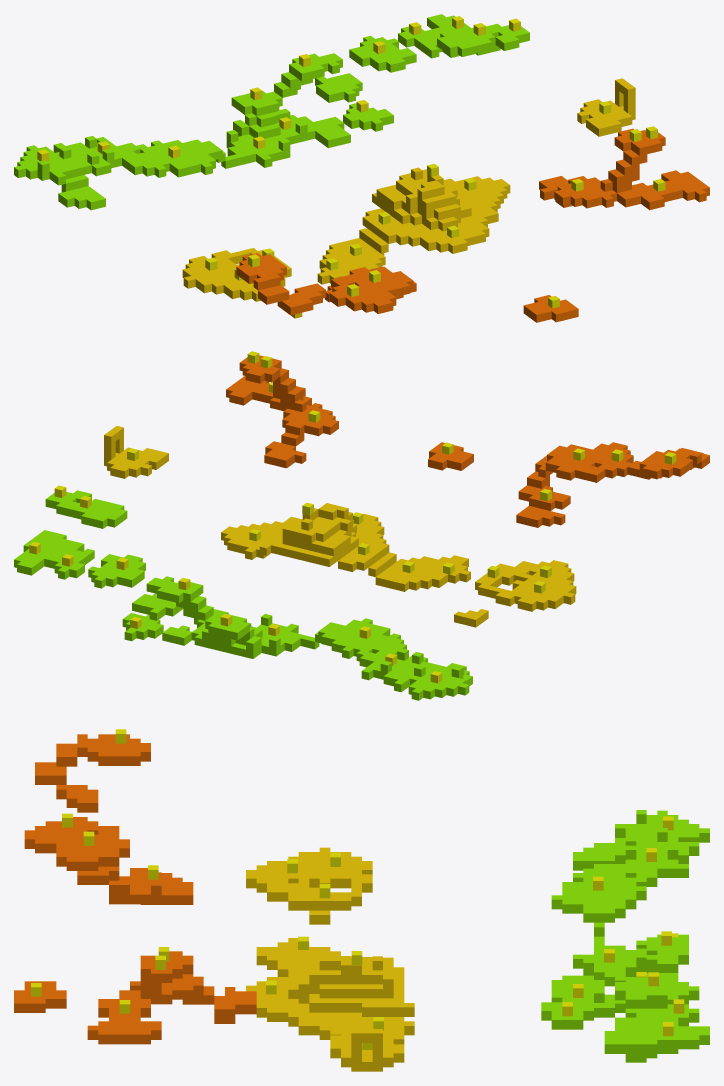
Rendered from 11.3 - nimLv1.fbx.
3 renders of one model, top to bottom at view 1: azimuth 30°, elevation 25°; view 2: azimuth 150°, elevation 25°; view 3: azimuth 270°, elevation 25°, orthographic. The views are drawn at different scales.
Parts seen in each view (by area): view 1: PL3Plat6, PL2Plat1, PL1Plat0, PL1Plat2, PL1Plat3, PL2Plat3, PL3Plat0, PL2Plat0, PL3Plat2, PL3Plat1, PL3Plat4, PL1Plat1 (+1 smaller); view 2: PL3Plat6, PL2Plat1, PL1Plat0, PL1Plat2, PL2Plat3, PL3Plat1, PL2Plat0, PL3Plat0, PL1Plat3, PL3Plat2, PL1Plat1, PL3Plat4 (+1 smaller); view 3: PL3Plat6, PL2Plat1, PL1Plat0, PL1Plat2, PL2Plat3, PL1Plat3, PL3Plat1, PL2Plat0, PL3Plat0, PL3Plat2, PL1Plat1.
Part boxes in pixels (box(x1,y1,x2,y2)): PL3Plat6: box(14, 53, 350, 210); PL2Plat1: box(317, 167, 510, 284); PL1Plat0: box(539, 128, 709, 210); PL1Plat2: box(324, 266, 416, 313); PL1Plat3: box(236, 253, 325, 315); PL2Plat3: box(182, 248, 291, 301); PL3Plat0: box(437, 23, 529, 56); PL2Plat0: box(577, 78, 635, 136); PL3Plat2: box(349, 35, 416, 72); PL3Plat1: box(398, 14, 500, 58); PL3Plat4: box(315, 73, 362, 102); PL1Plat1: box(523, 295, 578, 322); PL3Plat6: box(146, 576, 472, 700); PL2Plat1: box(221, 503, 470, 591); PL1Plat0: box(226, 355, 338, 468); PL1Plat2: box(516, 442, 633, 527); PL2Plat3: box(475, 560, 576, 611); PL3Plat1: box(14, 530, 94, 579); PL2Plat0: box(104, 426, 168, 478); PL3Plat0: box(45, 490, 127, 528); PL1Plat3: box(627, 448, 709, 479); PL3Plat2: box(88, 554, 145, 588); PL1Plat1: box(428, 442, 473, 470); PL3Plat4: box(132, 593, 183, 620); PL3Plat6: box(551, 810, 709, 1017); PL2Plat1: box(246, 938, 414, 1044); PL1Plat0: box(87, 951, 256, 1044); PL1Plat2: box(24, 817, 193, 904); PL2Plat3: box(246, 847, 372, 924); PL1Plat3: box(35, 734, 150, 812); PL3Plat1: box(604, 1004, 709, 1053); PL2Plat0: box(330, 1029, 404, 1071); PL3Plat0: box(541, 975, 604, 1029); PL3Plat2: box(615, 973, 699, 1008); PL1Plat1: box(14, 981, 66, 1012).
Size of the model in its own units: 2.22 by 0.6843 by 2.25.
